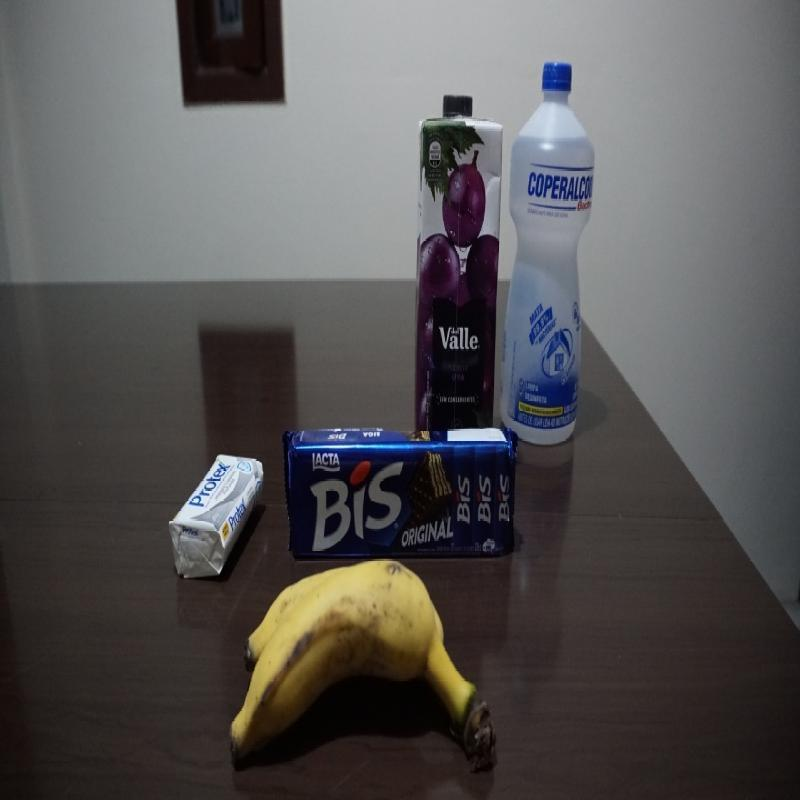Alcohol Bottle: (501, 59, 600, 451)
Banana: (228, 561, 496, 766)
Soap: (165, 452, 268, 583)
